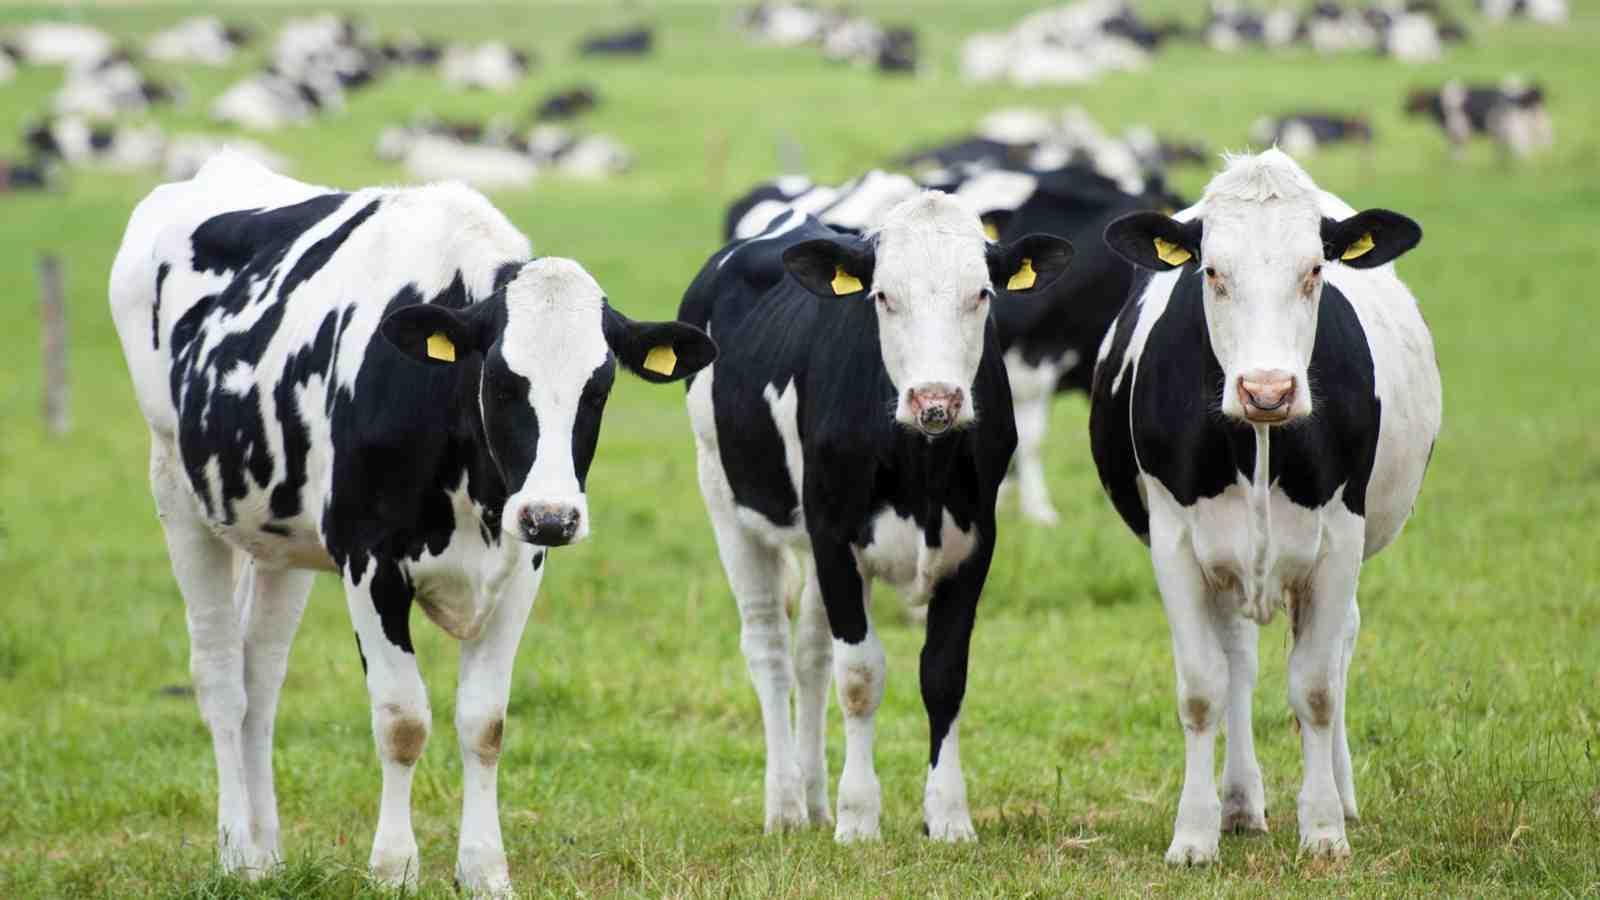muzzles: (1221, 364, 1310, 433), (496, 495, 593, 553), (892, 384, 978, 441)
